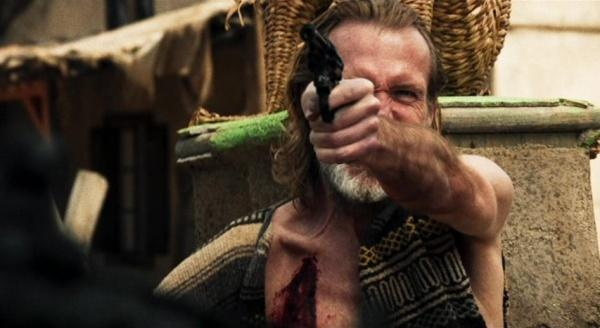Gun: (300, 25, 343, 99)
